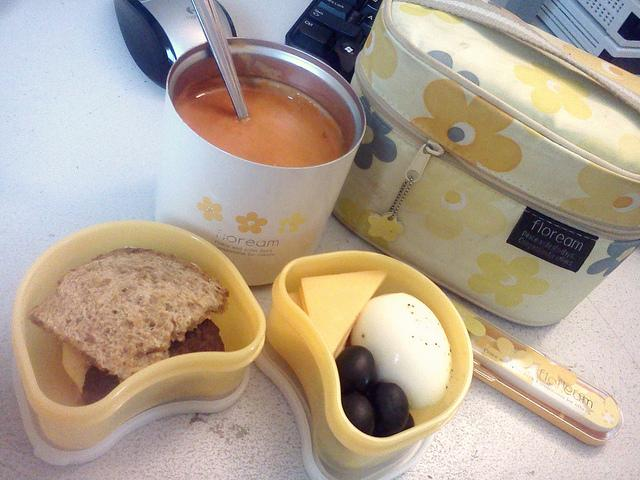cup: (157, 38, 363, 284)
